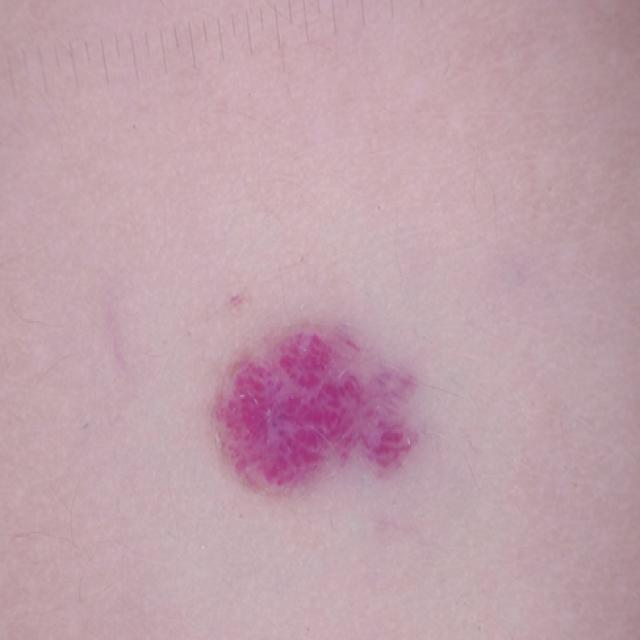Vascular Lesions: (190, 279, 489, 595)
